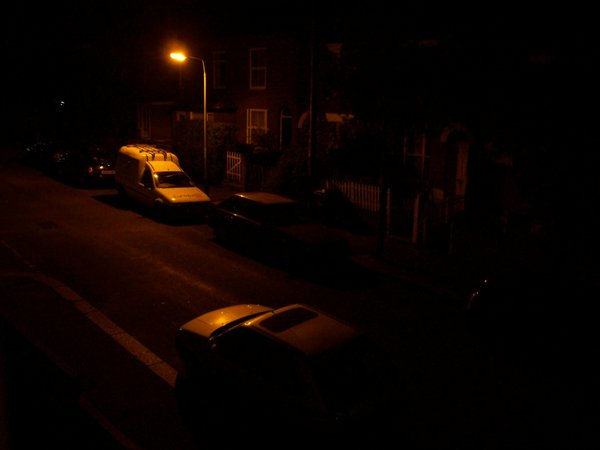car: (46, 140, 122, 191)
